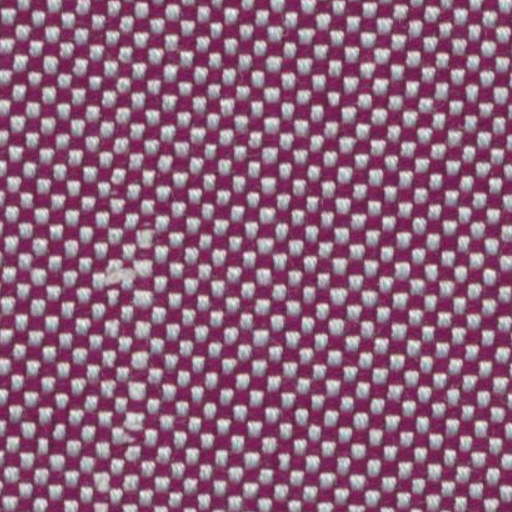TuoSha: (112, 27, 182, 494)
